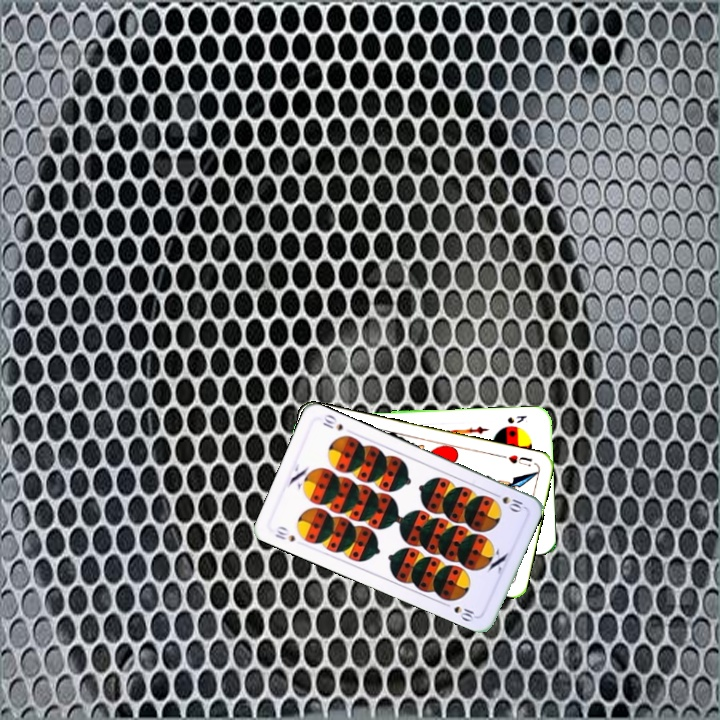HU: (497, 451, 535, 469)
S10: (489, 488, 528, 515), (271, 522, 298, 545)
SK: (504, 411, 529, 426)
